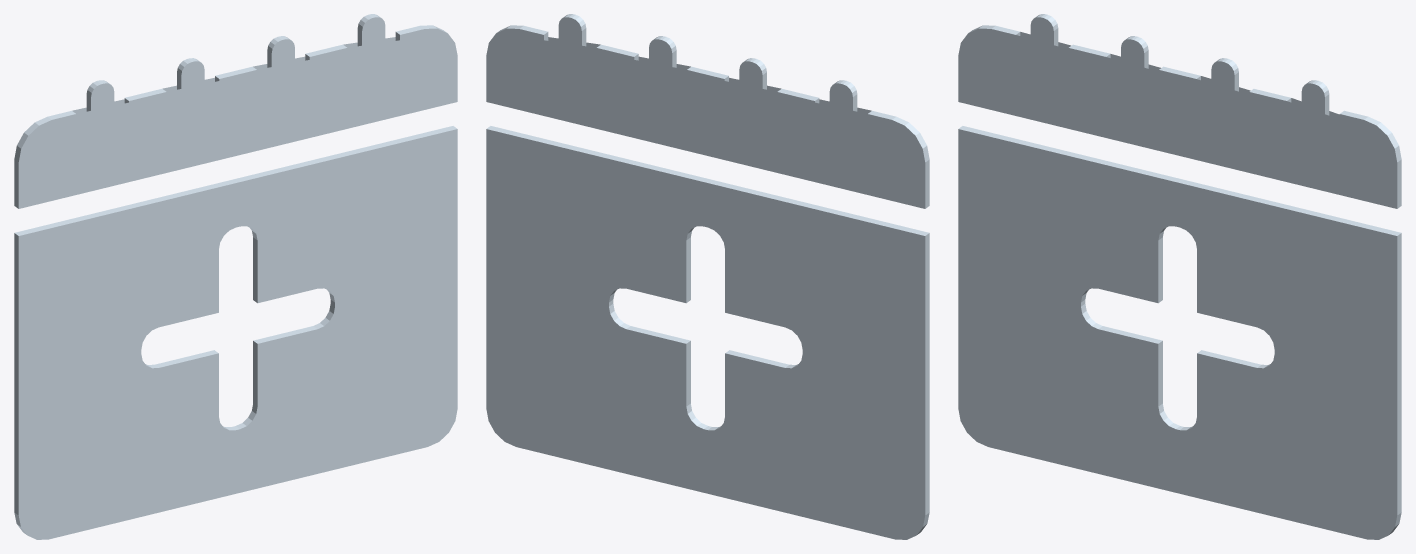
Rendered from Medical_Calendar_3D_Icon.fbx.
3 views of the same model, side by side, from view 1: azimuth 30°, elevation 25°; view 2: azimuth 150°, elevation 25°; view 3: azimuth 330°, elevation 25° (orthographic).
Visible parts, largest first — view 1: Medical_Calendar_3D_Icon; view 2: Medical_Calendar_3D_Icon; view 3: Medical_Calendar_3D_Icon.
Boxes of the visible parts, x1,y1,x2,y2 form: Medical_Calendar_3D_Icon: (14,14,457,539); Medical_Calendar_3D_Icon: (486,14,929,539); Medical_Calendar_3D_Icon: (958,14,1401,539).
Bounding box in the file's own units: 114 × 110 × 2.
